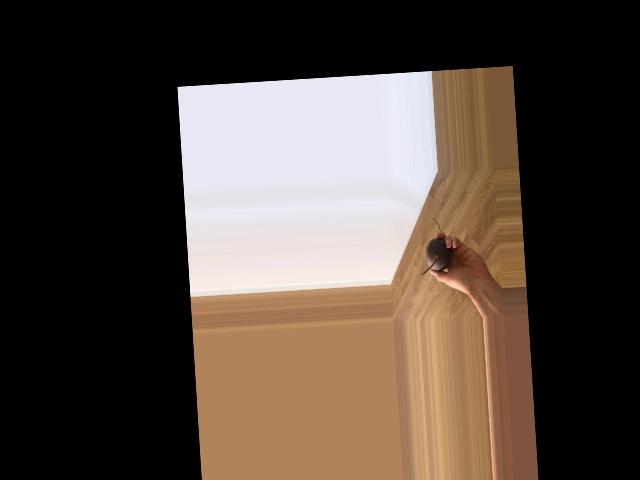beet: (417, 216, 453, 274)
